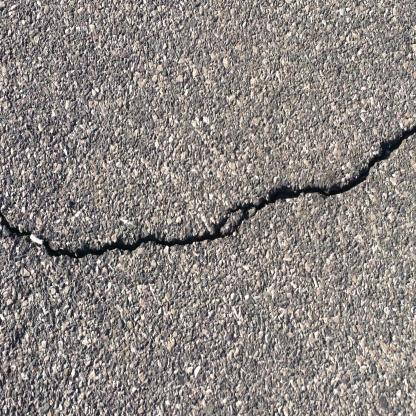Cracks: (0, 93, 416, 260)
